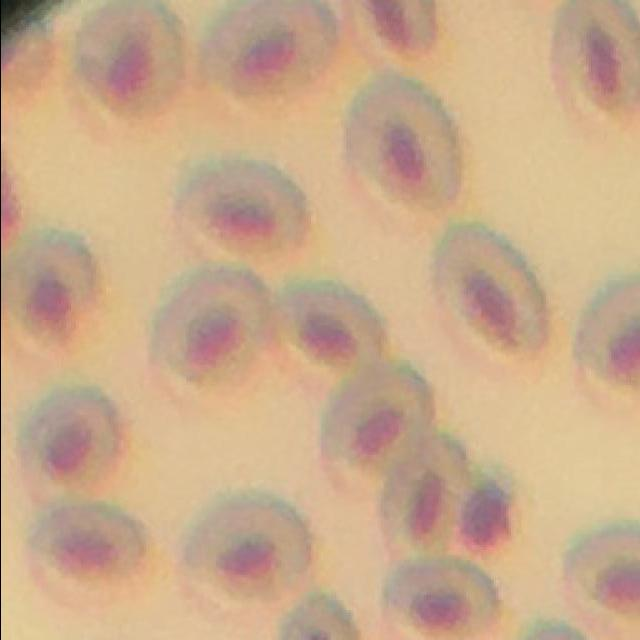RBC: (318, 360, 434, 502), (149, 266, 272, 398), (431, 225, 546, 364), (174, 159, 309, 269), (180, 494, 310, 608), (344, 78, 458, 208), (200, 0, 336, 102), (549, 0, 640, 141), (26, 504, 143, 609), (376, 436, 469, 568), (76, 0, 180, 116), (0, 229, 96, 352), (16, 388, 121, 495), (272, 281, 381, 379), (572, 278, 640, 428), (382, 558, 496, 639), (564, 521, 640, 640), (342, 0, 436, 64)
WBC: (459, 487, 508, 553)
